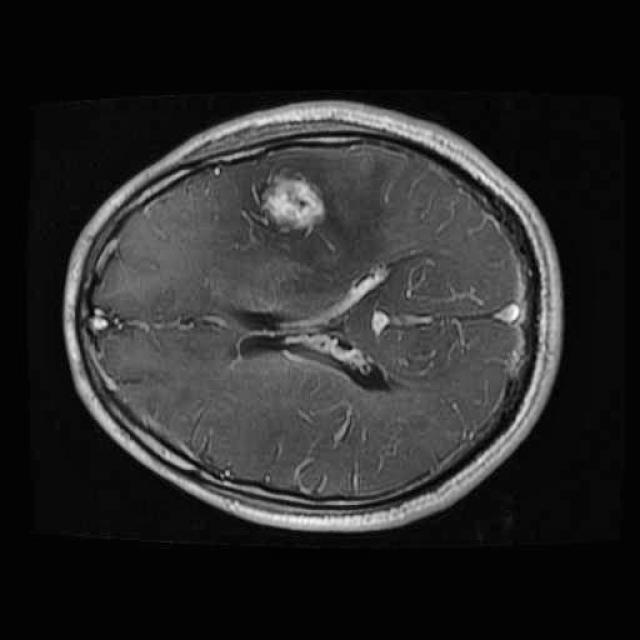Tumor: (241, 161, 345, 244)
